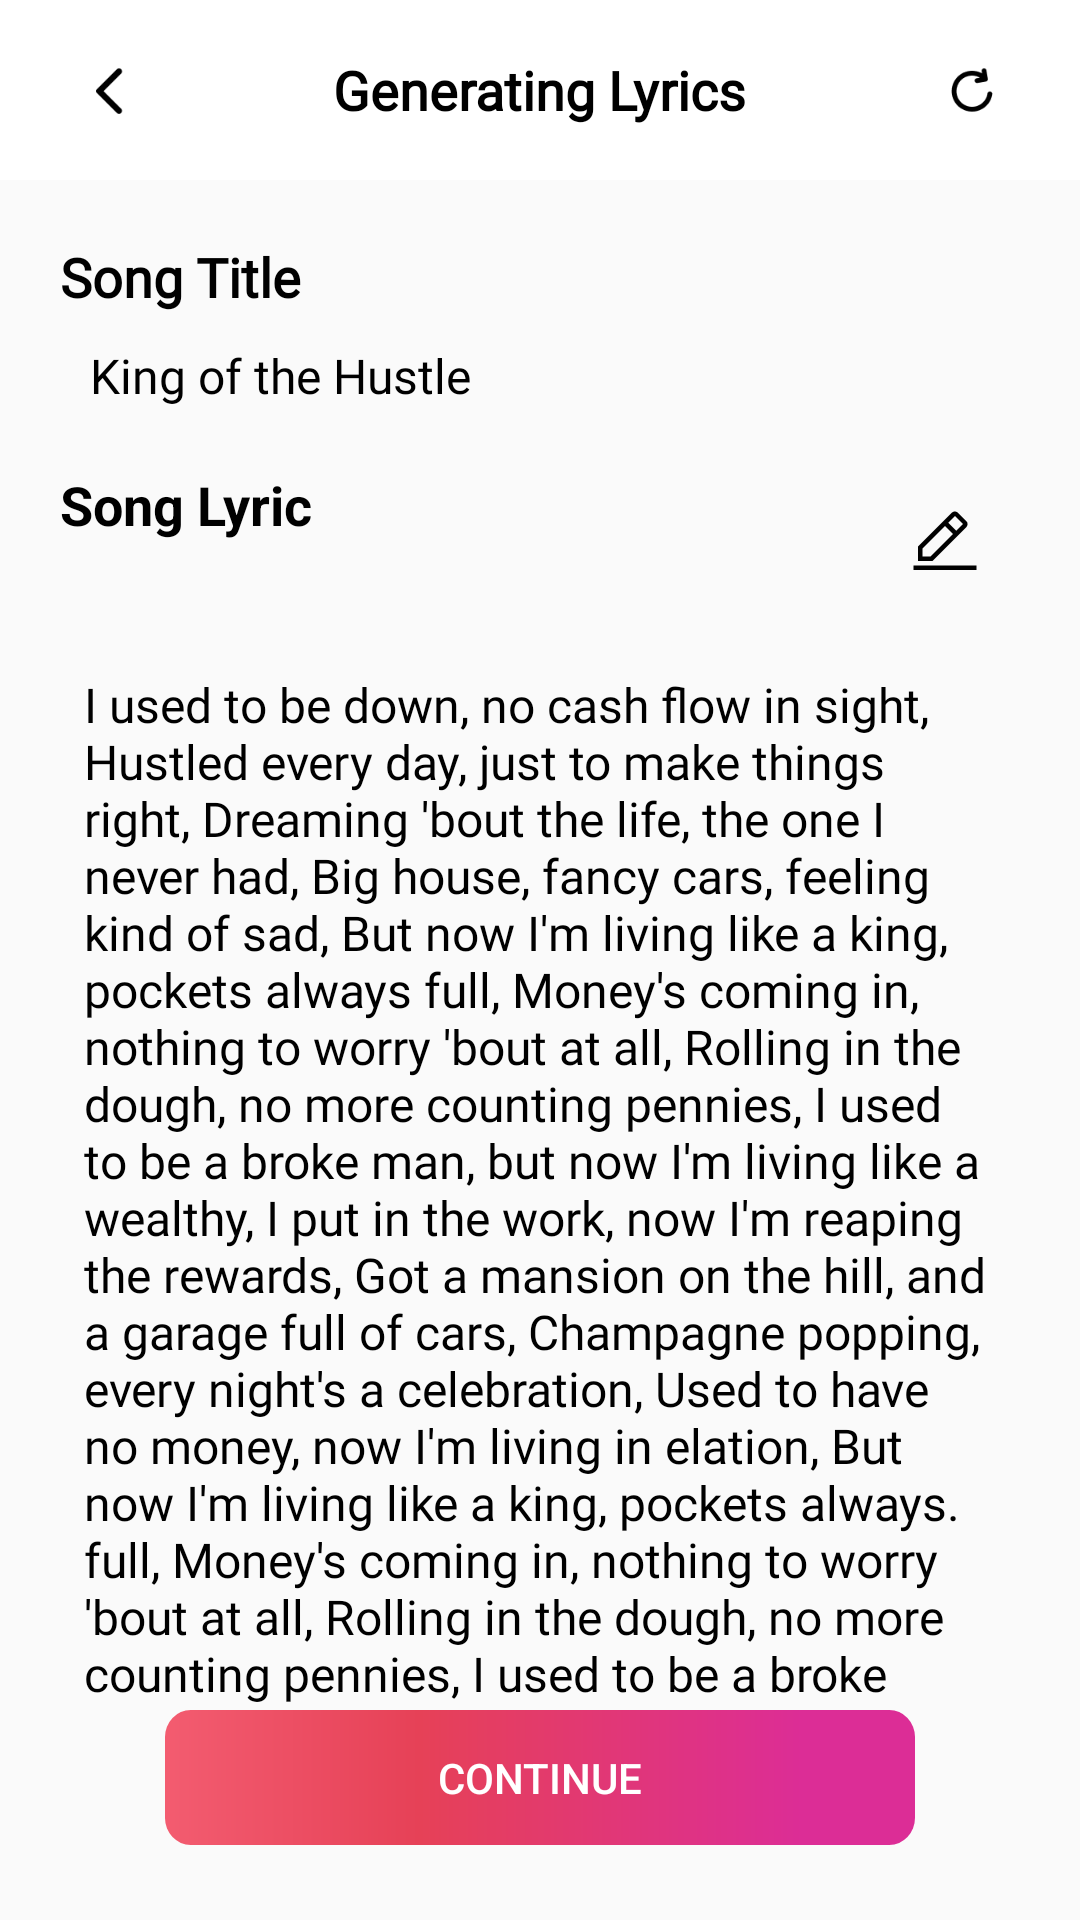

Point at icon controls on the screen. Image size 1080×1920, points as (x,y).
back: (109,91)
refresh: (972,90)
